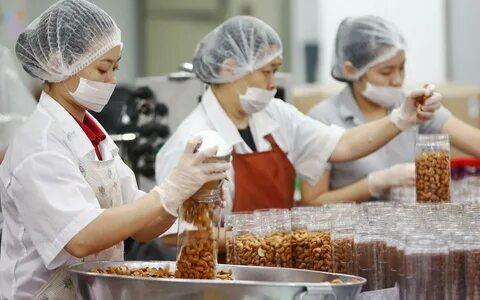hairnet: (11, 0, 129, 82), (178, 13, 285, 86), (321, 13, 418, 87)
mask: (68, 58, 117, 123), (355, 78, 413, 112), (230, 78, 279, 118)
